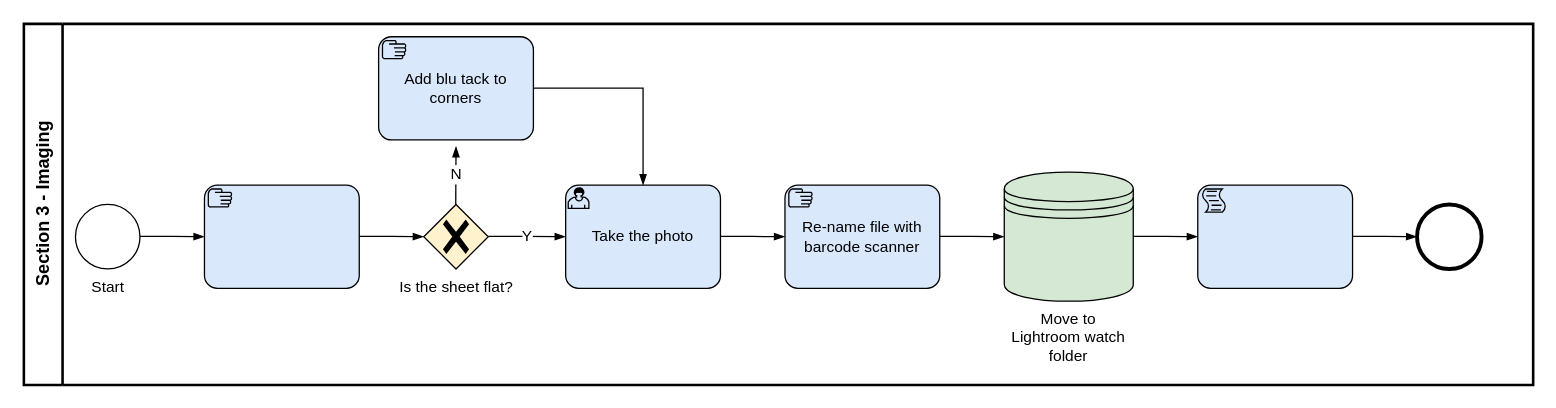
Some shapes in this 1556 by 408 pixel diagram are drawn without their labels. Here are the shapes that lost their labels. From the top down, the box of each, then its label:
(203, 184, 359, 288): Place sheet in imaging station
(1196, 184, 1353, 288): Lightroom presets applied
(1416, 203, 1482, 269): End - remove sheet
